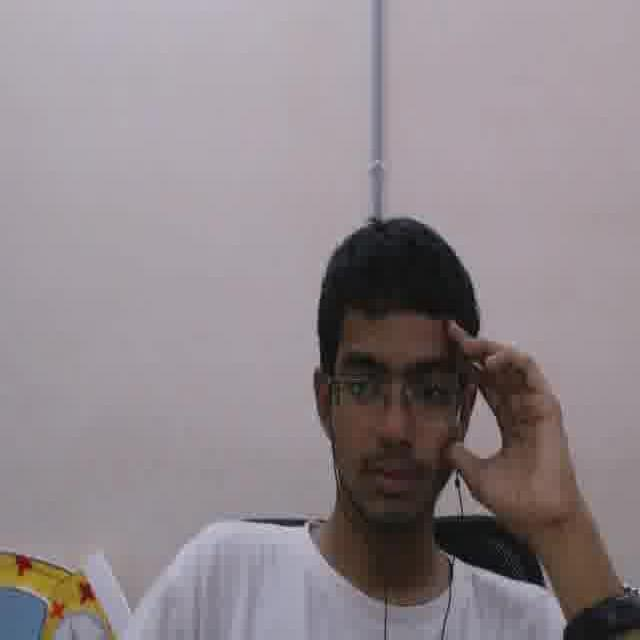Boredom: (319, 298, 459, 530)
